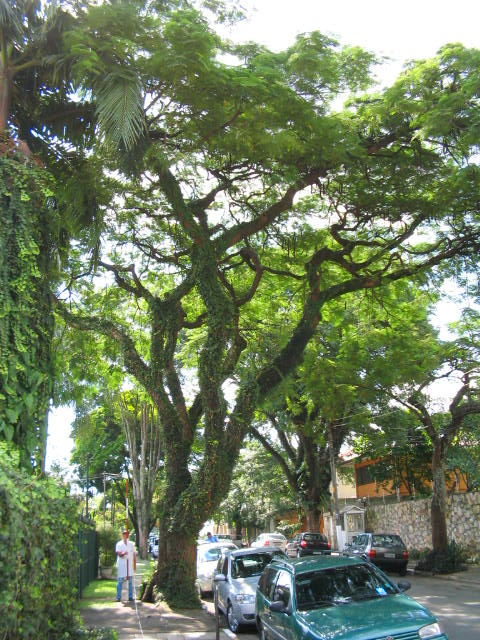stem: (142, 511, 212, 612), (419, 462, 462, 572)
stick: (120, 478, 132, 603)
tree: (38, 36, 480, 613)
